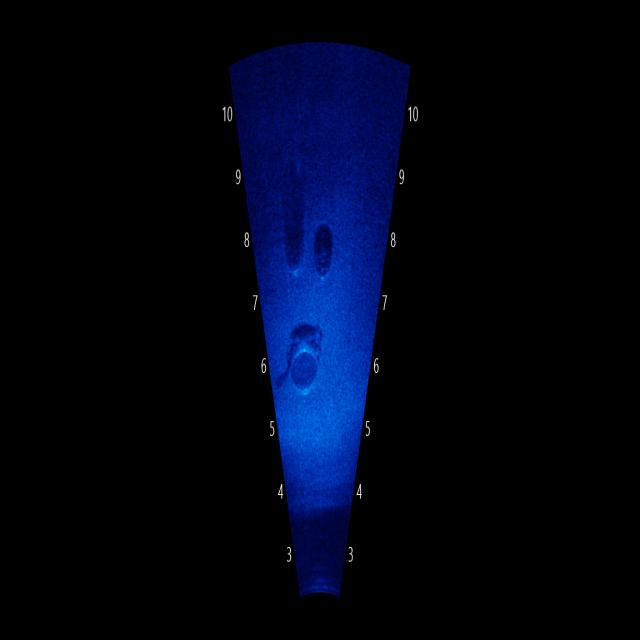circle: (285, 334, 325, 401), (308, 236, 337, 283)
